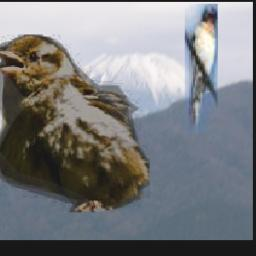Sparrow: (0, 35, 151, 213)
Swallow: (185, 4, 218, 134)
